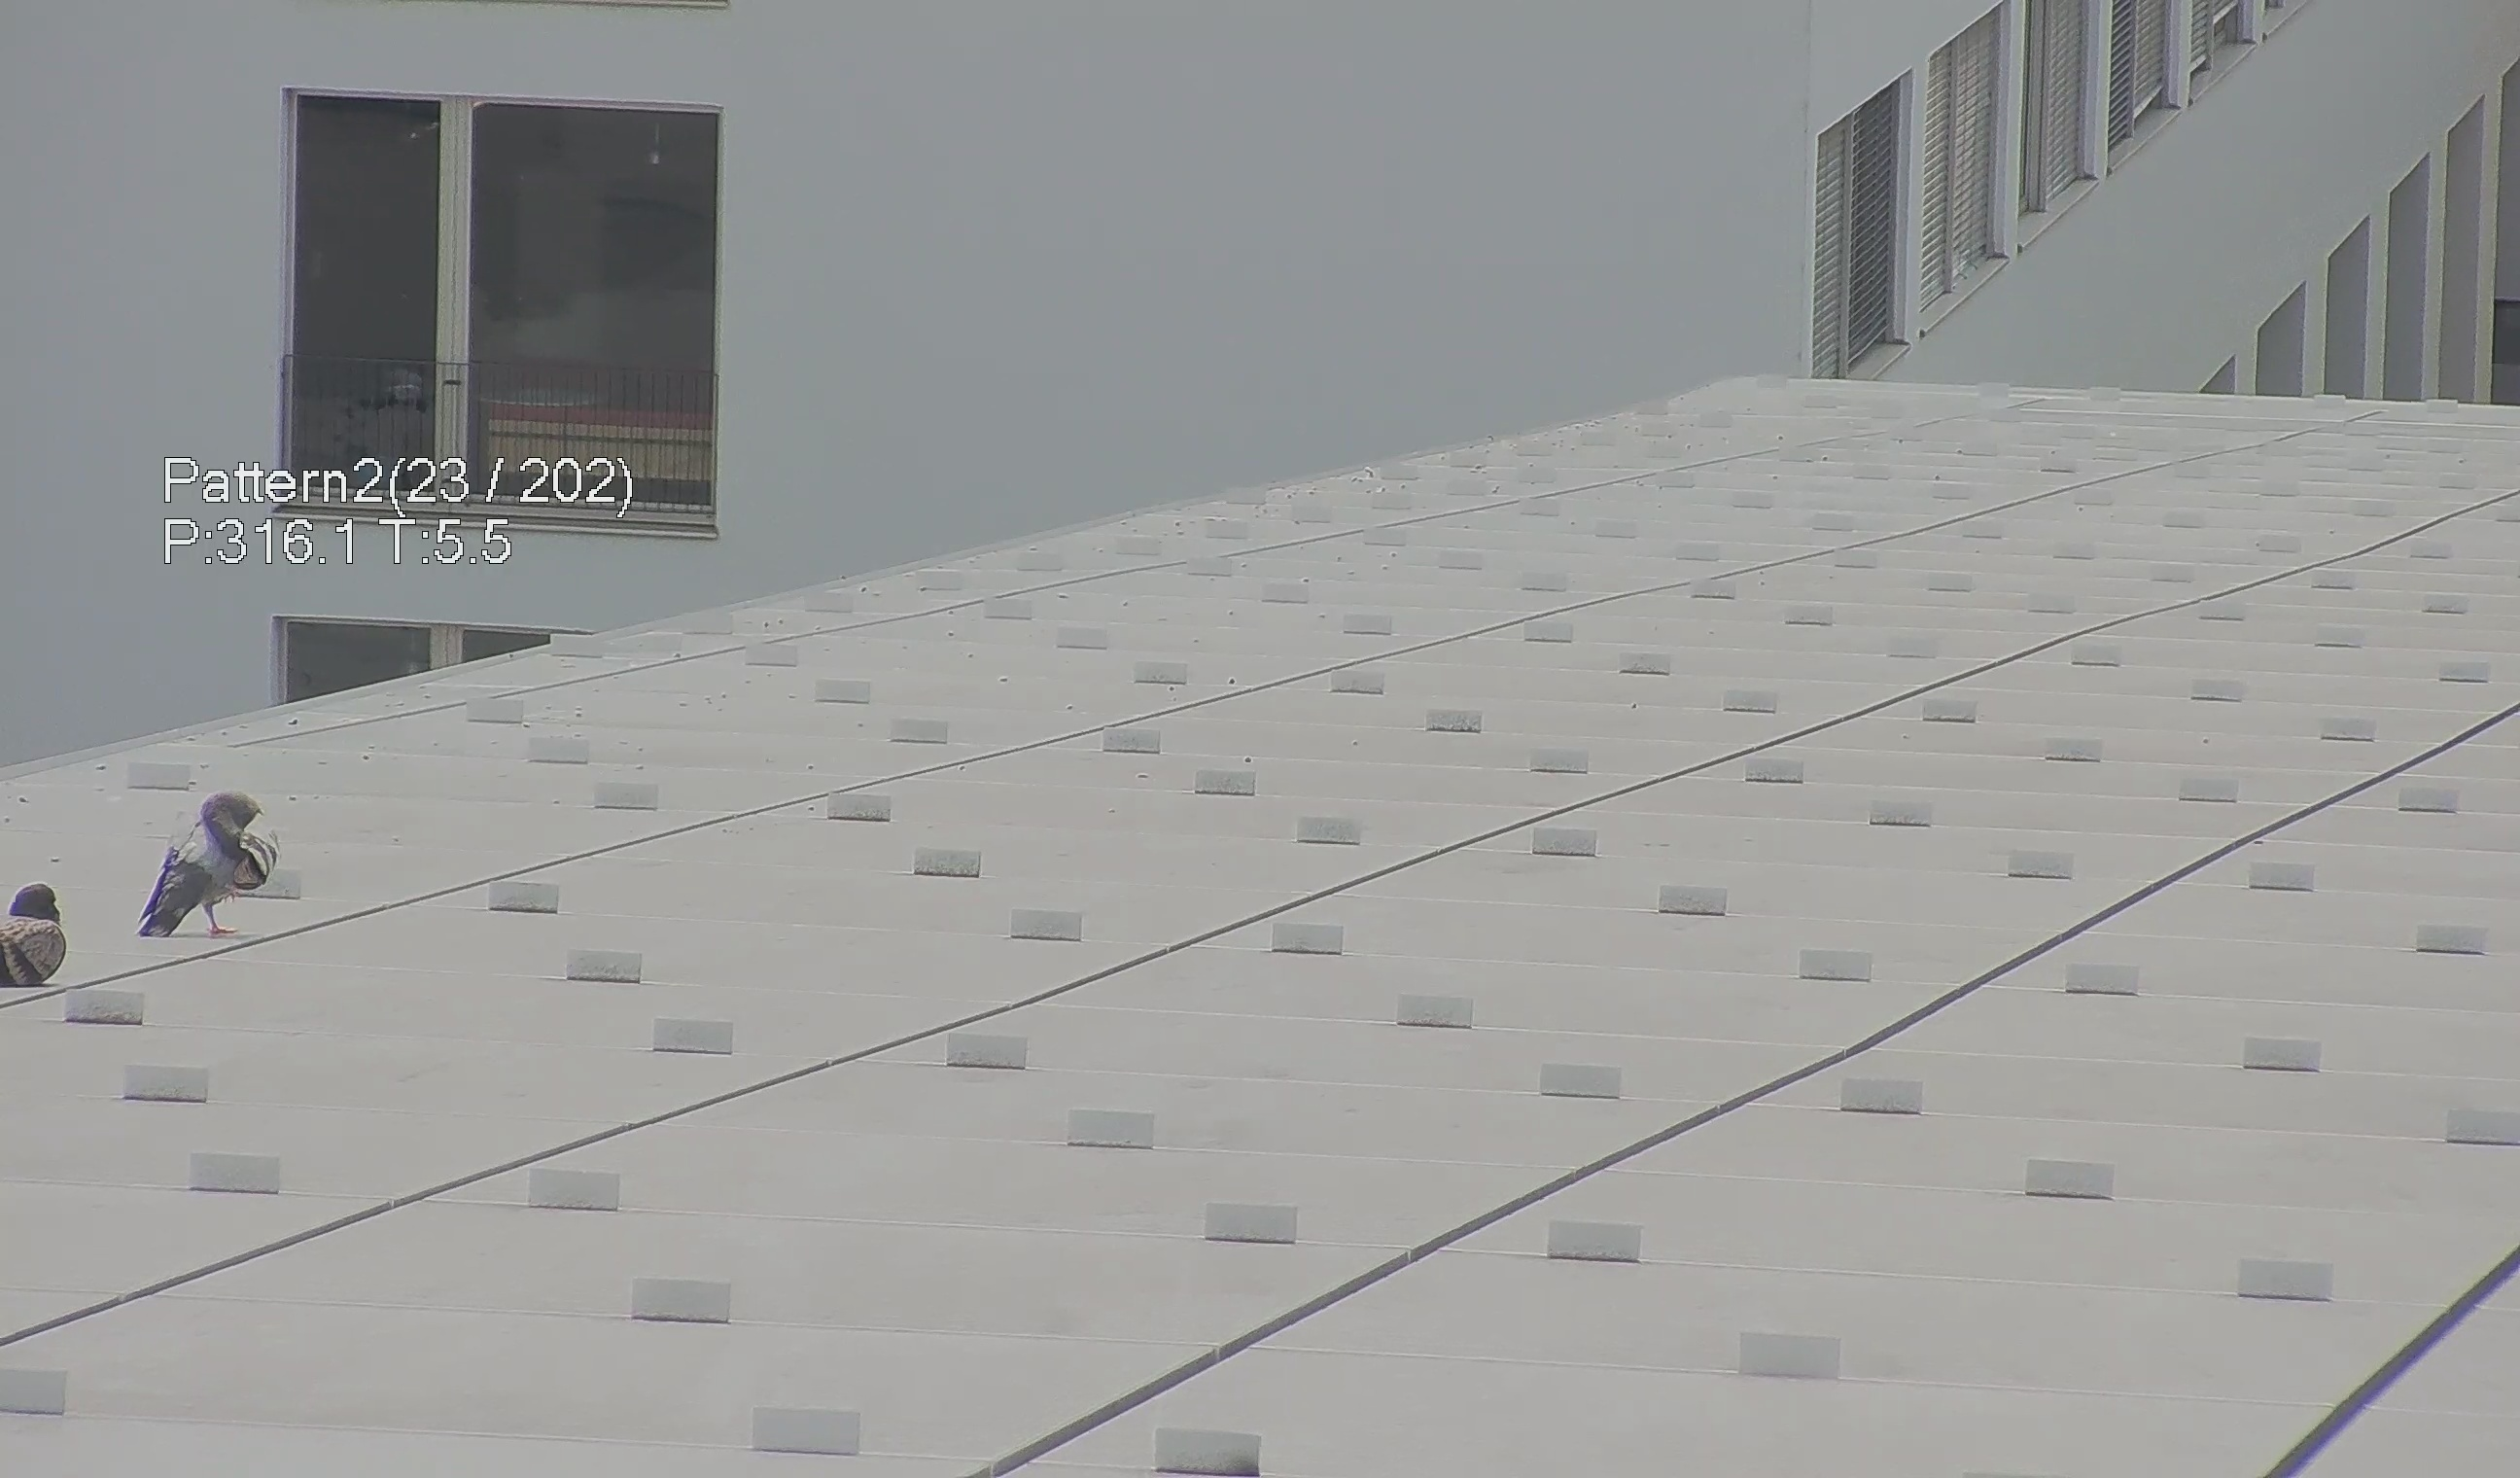Pigeon: (130, 788, 290, 955), (2, 878, 90, 991)
